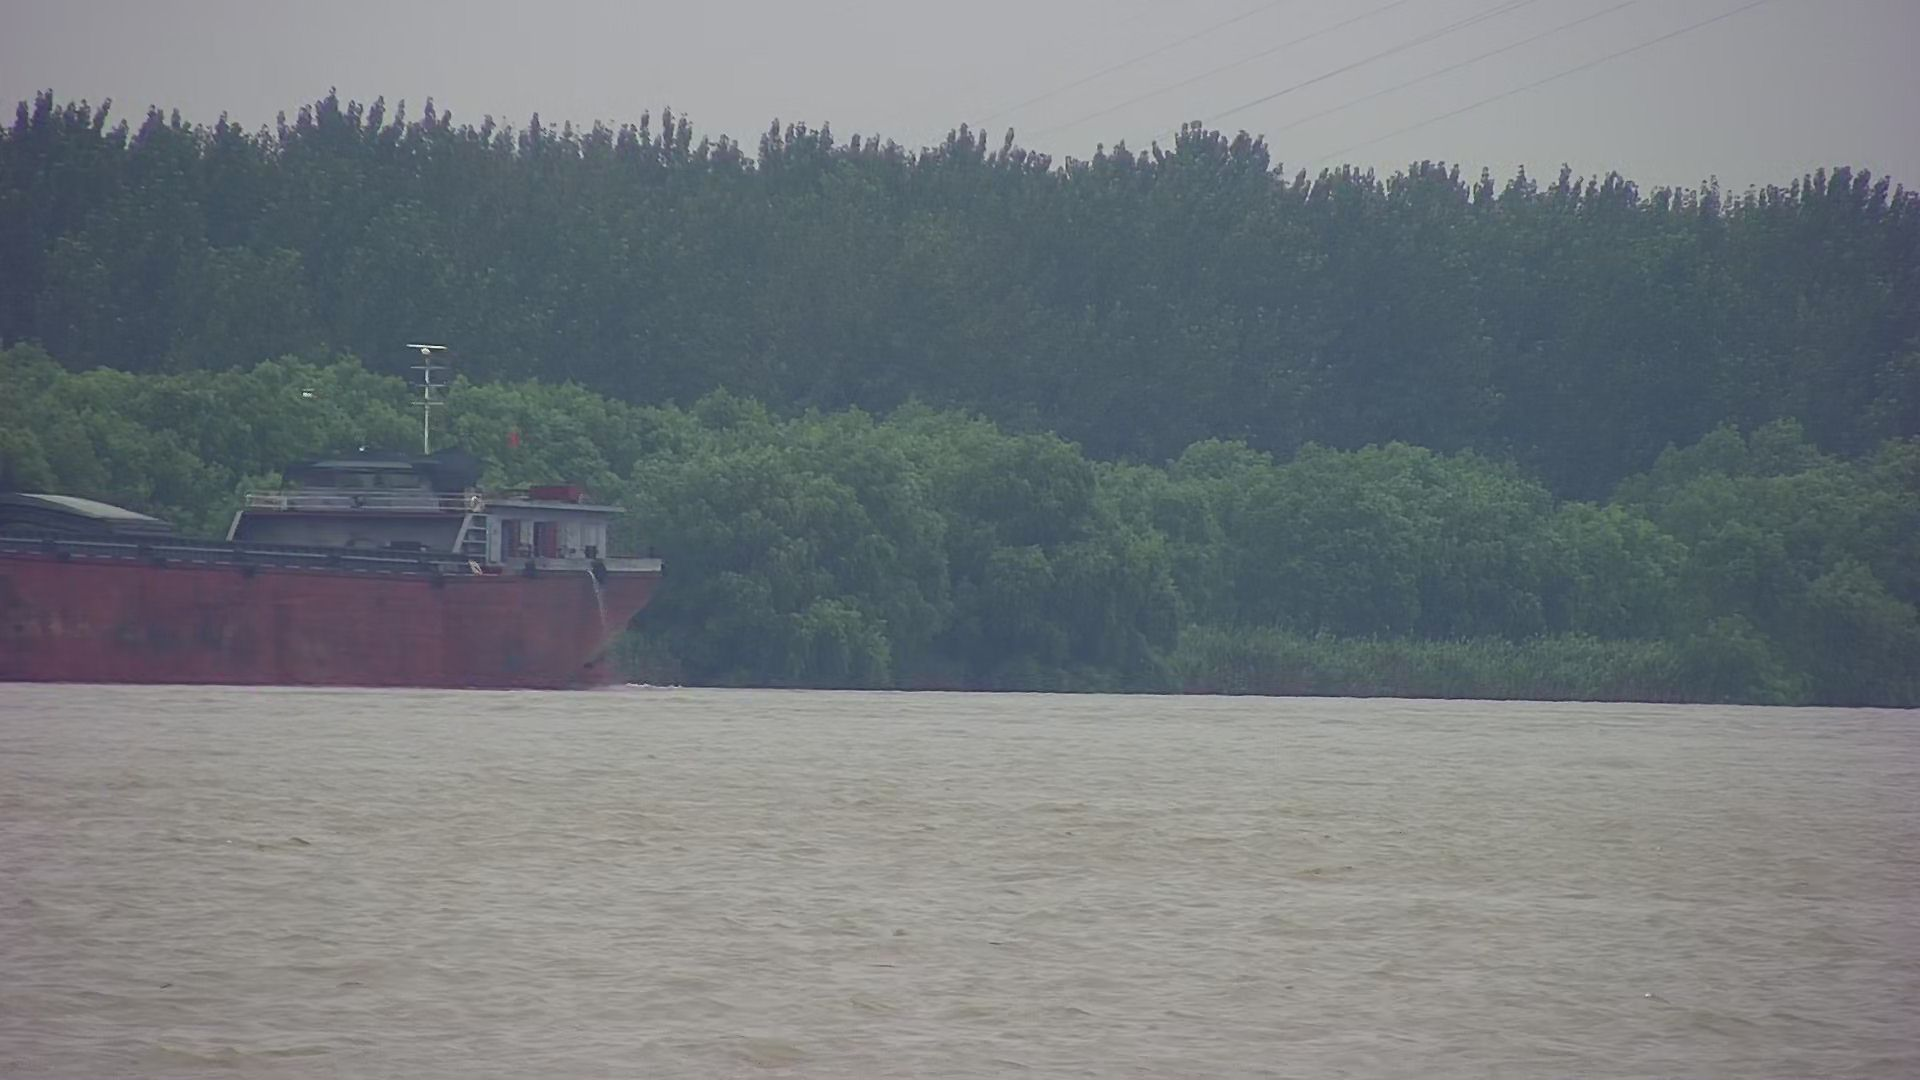ship: (5, 320, 669, 702)
